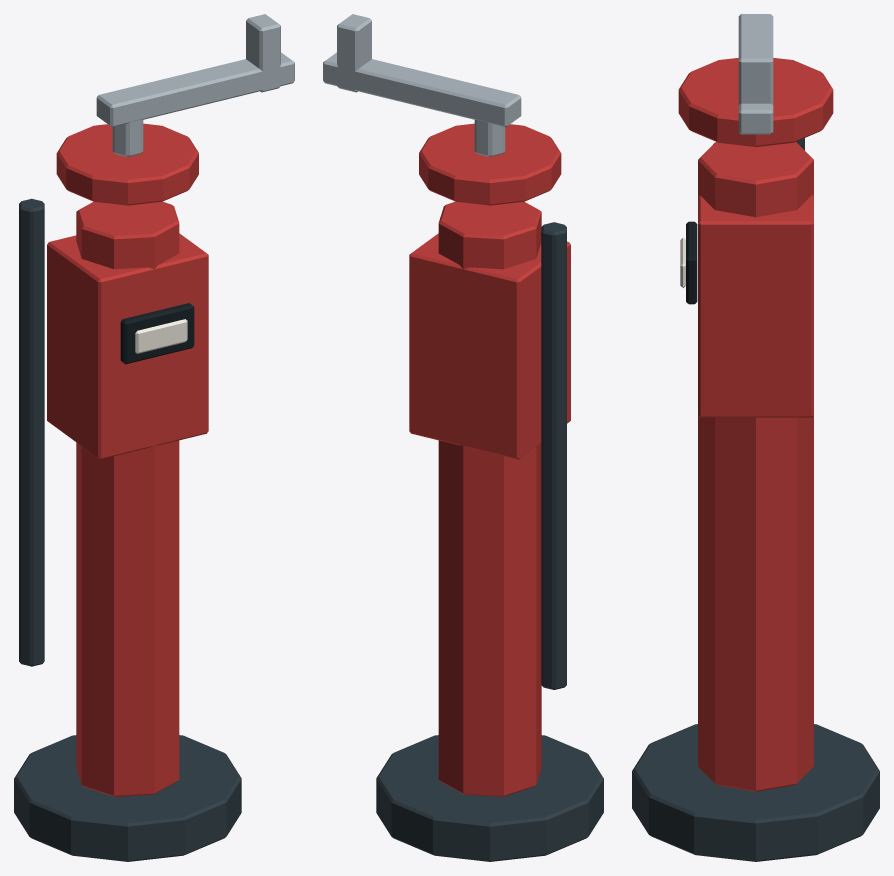
File: b05_post_indicator_valve.glb
3 renders of one model, left to right at view 1: azimuth 30°, elevation 25°; view 2: azimuth 150°, elevation 25°; view 3: azimuth 270°, elevation 25°, orthographic. The views are drawn at different scales.
Visible parts, largest first — view 1: b05_post_indicator_valve; view 2: b05_post_indicator_valve; view 3: b05_post_indicator_valve.
Part boxes in pixels (bbox=[...]): b05_post_indicator_valve: bbox=[14, 14, 294, 861]; b05_post_indicator_valve: bbox=[323, 14, 603, 861]; b05_post_indicator_valve: bbox=[632, 14, 879, 861].
Bounding box in the file's own units: 0.42 × 1.18 × 0.32.
